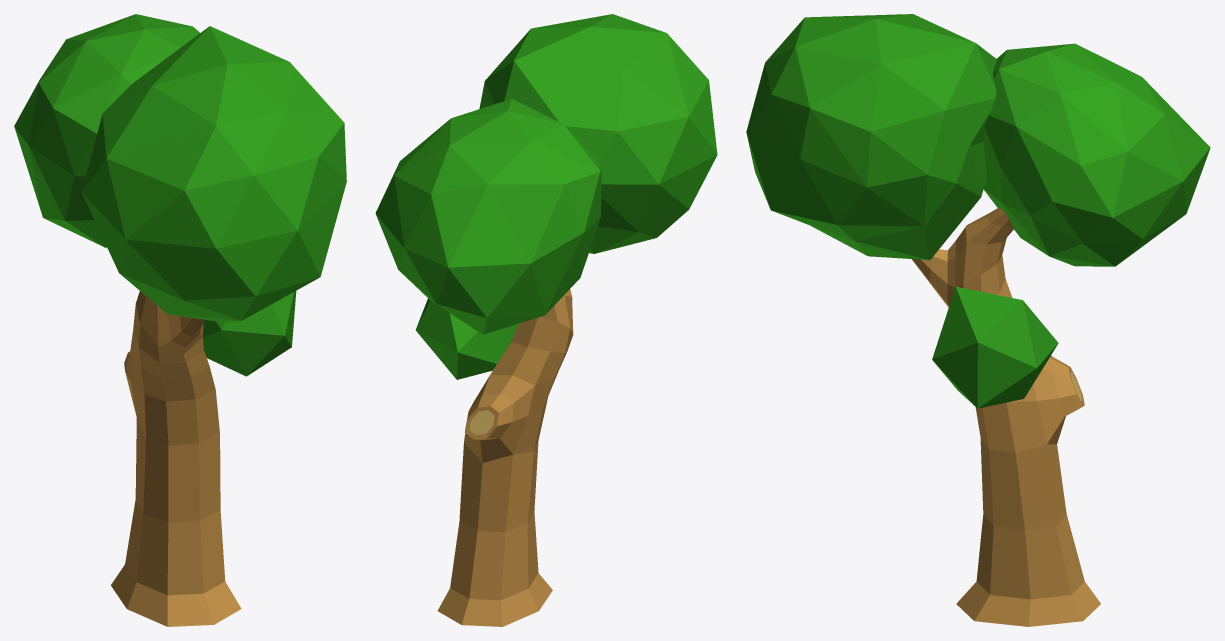
Rendered from Tree1.glb.
The picture shows the model from 3 angles, left to right: view 1: azimuth 30°, elevation 25°; view 2: azimuth 150°, elevation 25°; view 3: azimuth 270°, elevation 25°; orthographic projection. The views are drawn at different scales.
Parts seen in each view (by area): view 1: Leaves, Tree_1; view 2: Leaves, Tree_1; view 3: Leaves, Tree_1.
Part boxes in pixels (x1=…): Leaves: x1=14, y1=14, x2=346, y2=376; Tree_1: x1=111, y1=291, x2=241, y2=626; Leaves: x1=375, y1=14, x2=717, y2=379; Tree_1: x1=437, y1=289, x2=573, y2=626; Leaves: x1=746, y1=14, x2=1210, y2=408; Tree_1: x1=912, y1=208, x2=1100, y2=626.
Bounding box in the file's own units: 530 × 1232 × 906.
